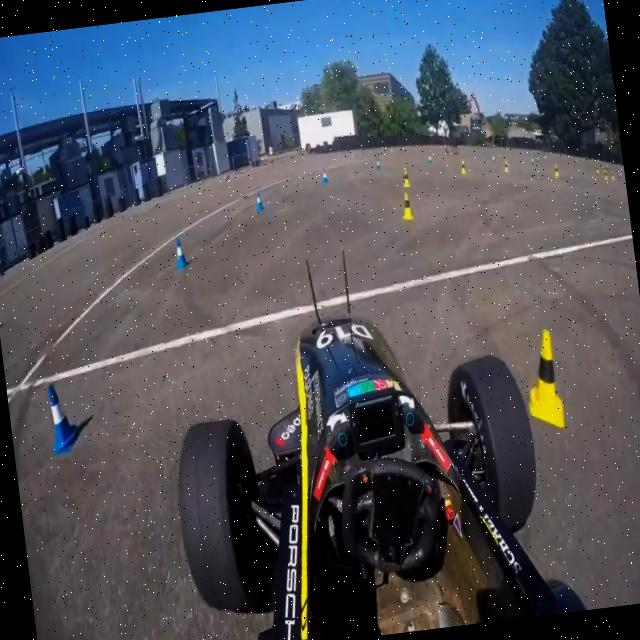blue_cone: (45, 380, 82, 456), (172, 236, 190, 270), (253, 190, 265, 212)
yellow_cone: (519, 328, 566, 433), (398, 191, 412, 220), (400, 165, 410, 188)
